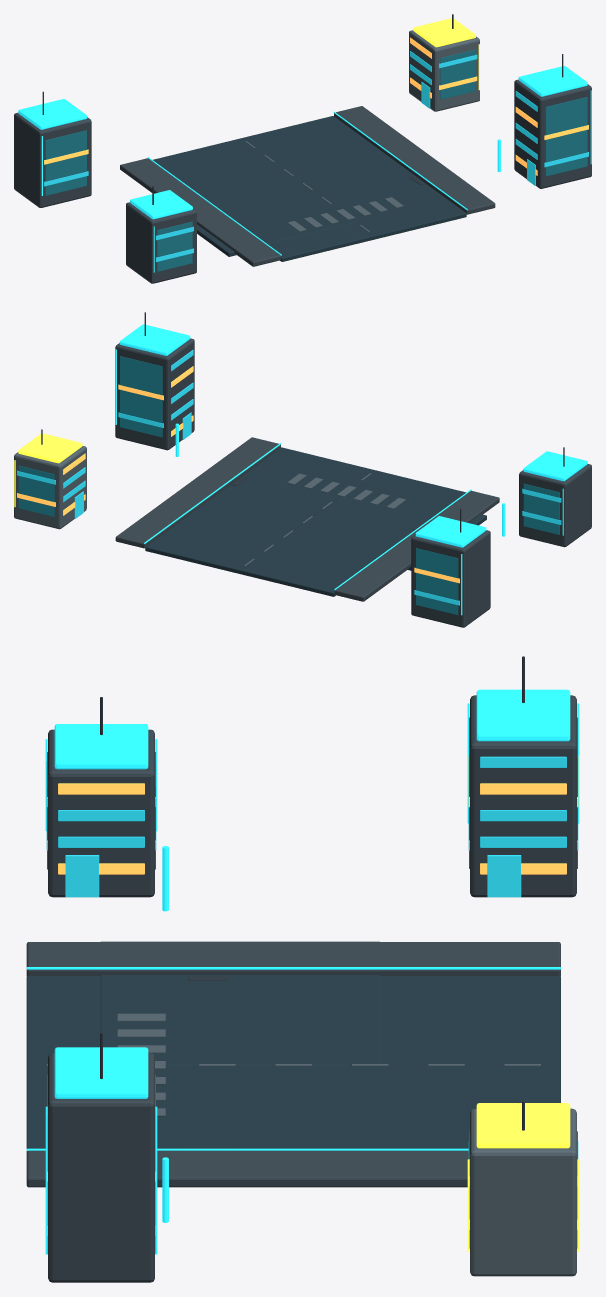
Rendered from corner_right_lod0.glb.
The picture shows the model from 3 angles, top to bottom: view 1: azimuth 30°, elevation 25°; view 2: azimuth 150°, elevation 25°; view 3: azimuth 270°, elevation 25°; orthographic projection. The views are drawn at different scales.
Visible parts, largest first — view 1: ND_Batch_ND_WetAsphalt, ND_Batch_ND_CityConcrete, ND_Batch_ND_RoadEdge, ND_Batch_ND_DarkGlass, ND_Batch_ND_CityCyanMuted, ND_Batch_ND_CityConcreteLight, ND_Batch_ND_NeonGlass, ND_Batch_ND_PackageGold, ND_Batch_ND_WarmWindow; view 2: ND_Batch_ND_WetAsphalt, ND_Batch_ND_CityConcrete, ND_Batch_ND_RoadEdge, ND_Batch_ND_DarkGlass, ND_Batch_ND_CityCyanMuted, ND_Batch_ND_CityConcreteLight, ND_Batch_ND_NeonGlass, ND_Batch_ND_PackageGold, ND_Batch_ND_WarmWindow; view 3: ND_Batch_ND_WetAsphalt, ND_Batch_ND_CityConcrete, ND_Batch_ND_RoadEdge, ND_Batch_ND_CityCyanMuted, ND_Batch_ND_CityConcreteLight, ND_Batch_ND_NeonGlass, ND_Batch_ND_PackageGold, ND_Batch_ND_WarmWindow, ND_Batch_ND_DarkGlass.
Part boxes in pixels (bbox=[...]): ND_Batch_ND_WetAsphalt: bbox=[153, 116, 466, 261]; ND_Batch_ND_CityConcrete: bbox=[14, 79, 591, 283]; ND_Batch_ND_RoadEdge: bbox=[120, 106, 495, 266]; ND_Batch_ND_DarkGlass: bbox=[45, 49, 587, 271]; ND_Batch_ND_CityCyanMuted: bbox=[18, 66, 591, 272]; ND_Batch_ND_CityConcreteLight: bbox=[245, 30, 479, 231]; ND_Batch_ND_NeonGlass: bbox=[44, 51, 588, 262]; ND_Batch_ND_PackageGold: bbox=[413, 18, 479, 90]; ND_Batch_ND_WarmWindow: bbox=[44, 37, 588, 175]; ND_Batch_ND_WetAsphalt: bbox=[145, 447, 486, 596]; ND_Batch_ND_CityConcrete: bbox=[115, 338, 591, 627]; ND_Batch_ND_RoadEdge: bbox=[115, 437, 499, 601]; ND_Batch_ND_DarkGlass: bbox=[18, 356, 559, 614]; ND_Batch_ND_CityCyanMuted: bbox=[115, 324, 587, 615]; ND_Batch_ND_CityConcreteLight: bbox=[14, 446, 405, 566]; ND_Batch_ND_NeonGlass: bbox=[17, 350, 561, 605]; ND_Batch_ND_PackageGold: bbox=[14, 433, 82, 507]; ND_Batch_ND_WarmWindow: bbox=[17, 366, 459, 583]; ND_Batch_ND_WetAsphalt: bbox=[26, 941, 560, 1152]; ND_Batch_ND_CityConcrete: bbox=[48, 695, 576, 1282]; ND_Batch_ND_RoadEdge: bbox=[26, 942, 560, 1187]; ND_Batch_ND_CityCyanMuted: bbox=[26, 689, 579, 1254]; ND_Batch_ND_CityConcreteLight: bbox=[46, 1013, 576, 1276]; ND_Batch_ND_NeonGlass: bbox=[46, 756, 578, 1235]; ND_Batch_ND_PackageGold: bbox=[467, 1103, 579, 1251]; ND_Batch_ND_WarmWindow: bbox=[47, 755, 578, 1229]; ND_Batch_ND_DarkGlass: bbox=[47, 717, 577, 1253].
Bounding box in the file's own units: 38.7 × 10.03 × 20.69.
